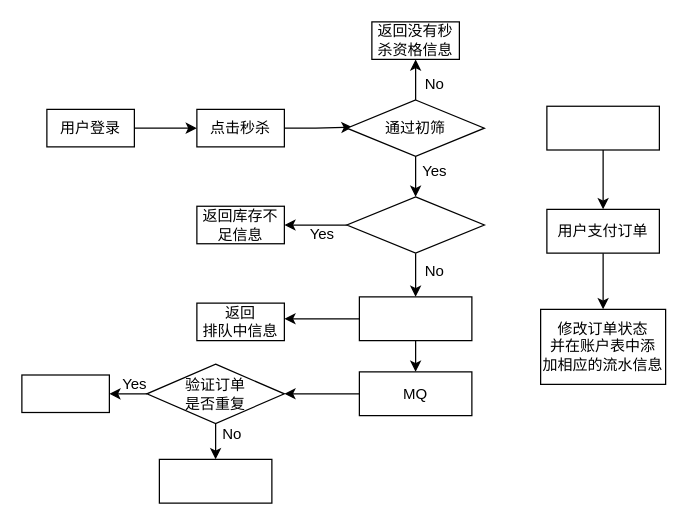
Image size: 688x525. Some labels were removed from this diagram. The shapes that lost their labels are listed below. From the top down, each one's box as (x1, y1, x2, y2) in pixels, then its label:
(546, 105, 659, 150): 生成的订单
(346, 196, 484, 253): 库存是否为0
(358, 296, 472, 341): 生成订单消息
(21, 374, 109, 412): 返回重复 购买信息
(158, 458, 272, 503): 生成订单 并扣减库存
